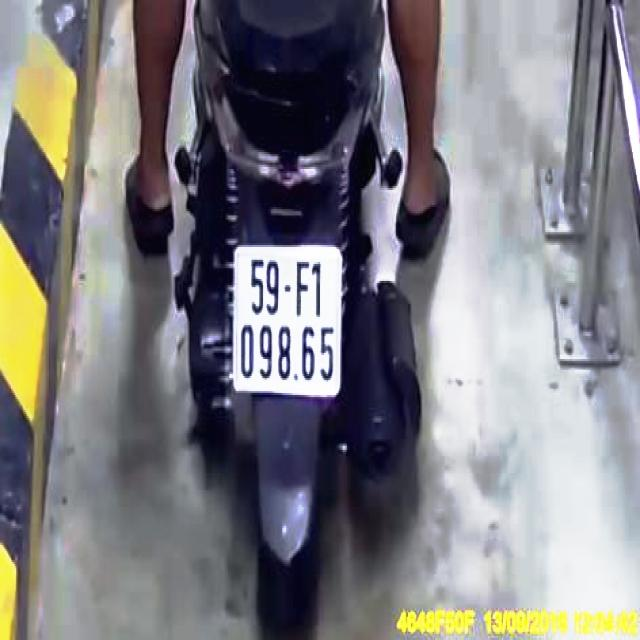license_plate: (235, 249, 342, 397)
